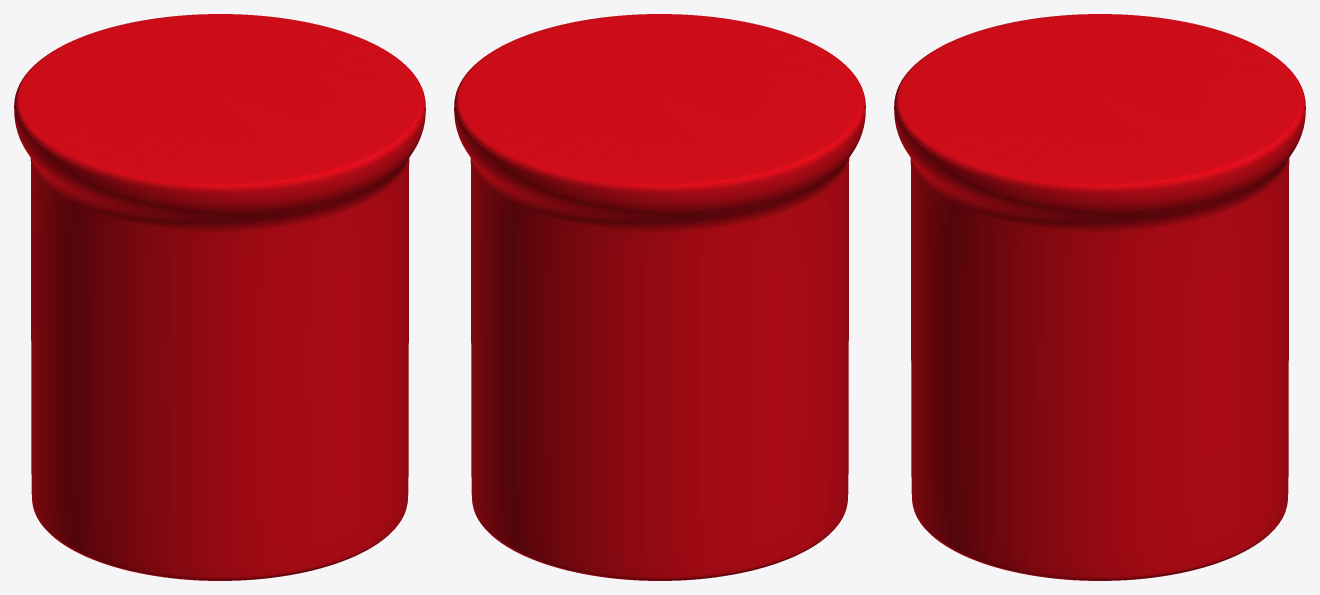
File: bocal_3.fbx
3 renders of one model, left to right at view 1: azimuth 30°, elevation 25°; view 2: azimuth 150°, elevation 25°; view 3: azimuth 270°, elevation 25°, orthographic.
Parts seen in each view (by area): view 1: bocal_2; view 2: bocal_2; view 3: bocal_2.
Part boxes in pixels (x1,y1,x2,y2): bocal_2: (14,14,425,580); bocal_2: (454,14,865,580); bocal_2: (894,14,1305,580).
Bounding box in the file's own units: 508 × 552 × 508.
